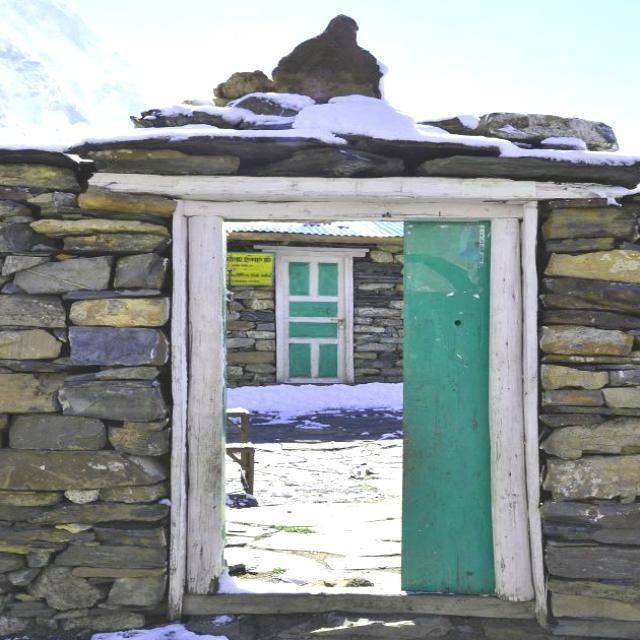door: (275, 252, 352, 384)
